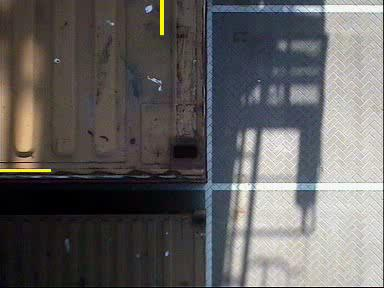groundmarker_2: (177, 72, 229, 111), (179, 197, 231, 236)
